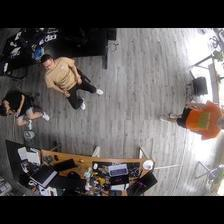normal: (43, 53, 104, 113), (158, 100, 224, 137)
